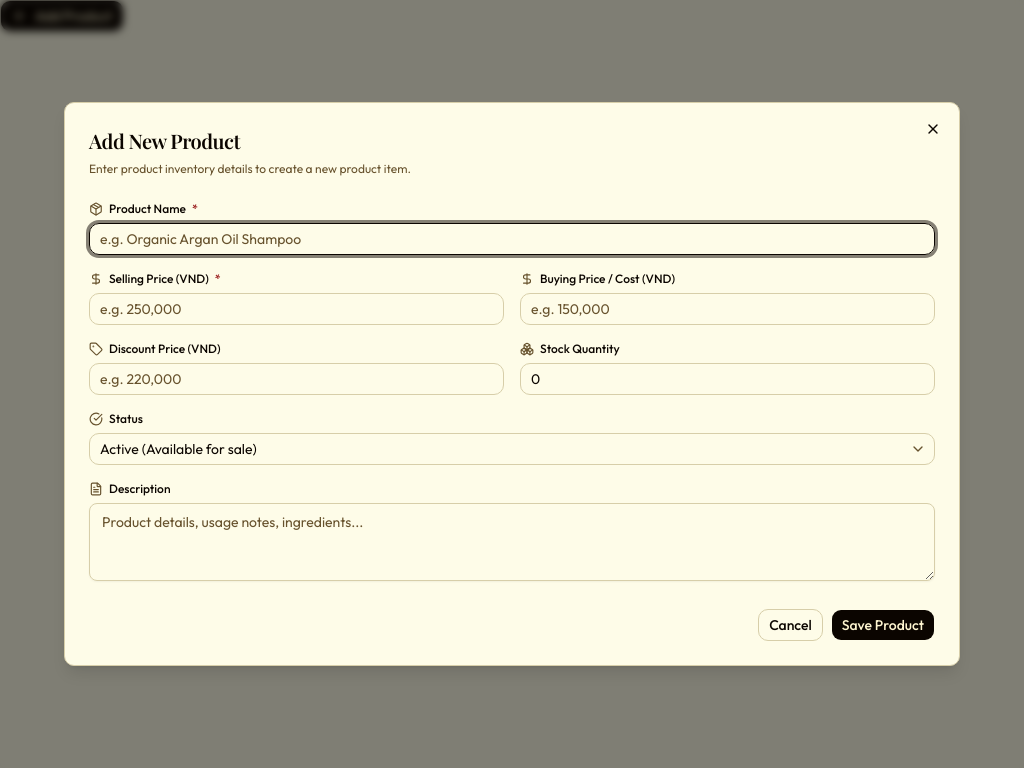
Test case: ProductFormDialog - Create Mode › validates discount price cannot exceed selling price
Step 1. Type "Hair Conditioner" into the field labelled "Product Name *" → (512, 239), box [89, 223, 935, 255]
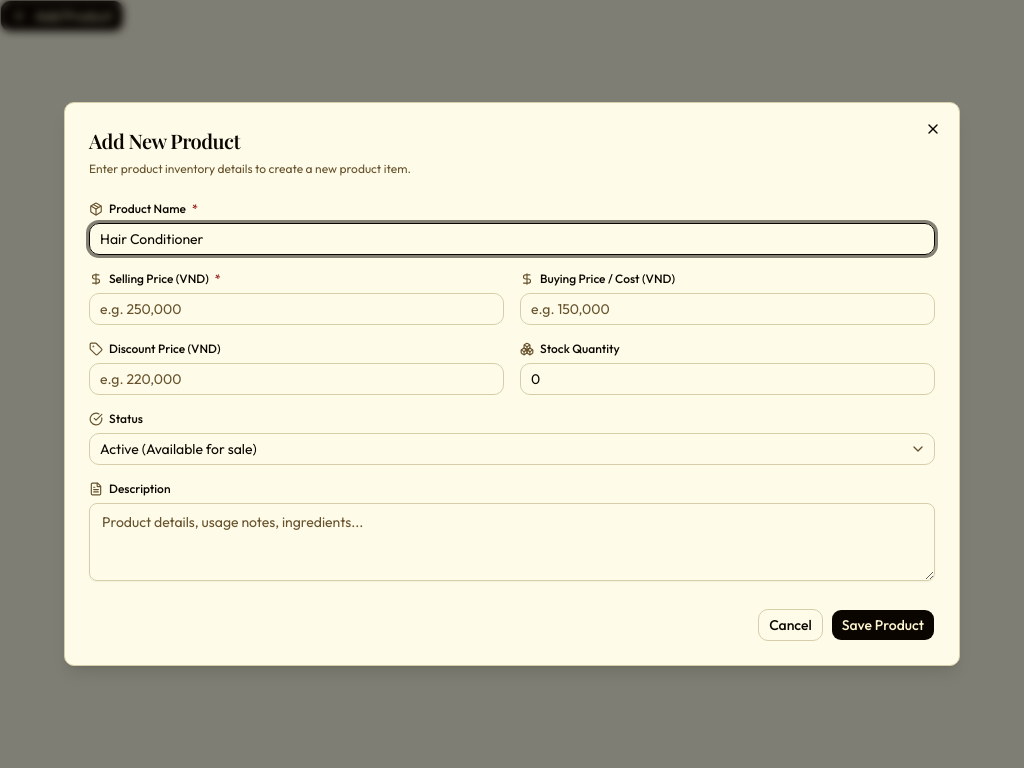
Step 2. Type "150000" into the field labelled "Selling Price (VND) *" → (296, 309), box [89, 293, 504, 325]
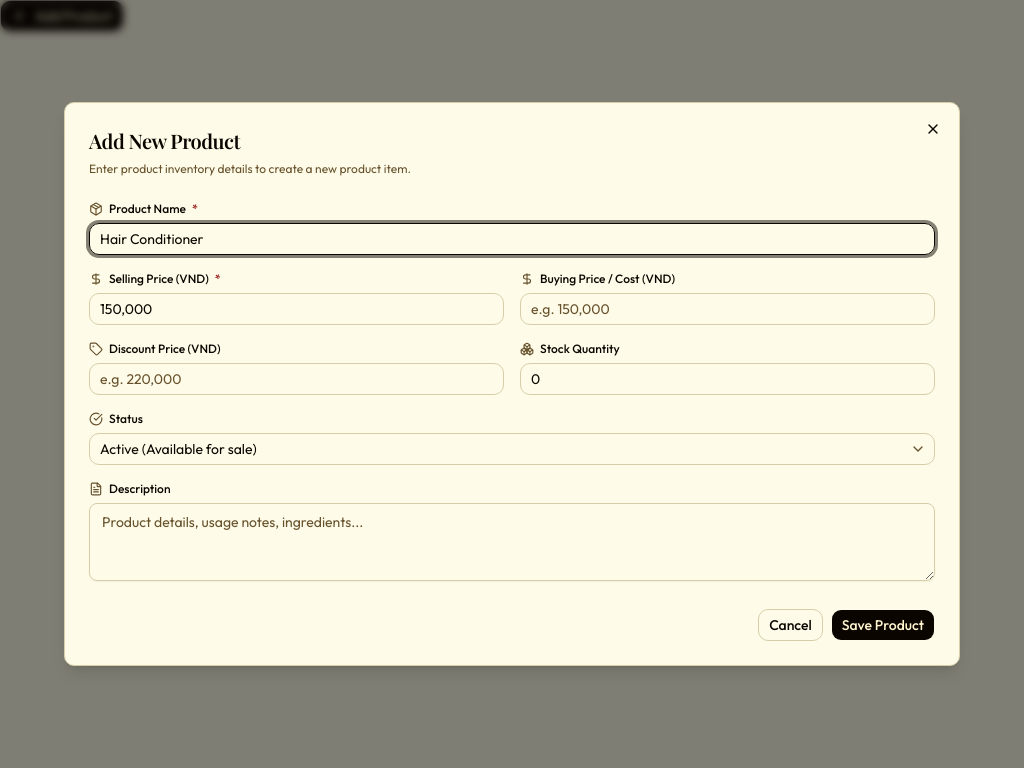
Step 3. Type "200000" into the field labelled "Discount Price (VND)" → (296, 379), box [89, 363, 504, 395]
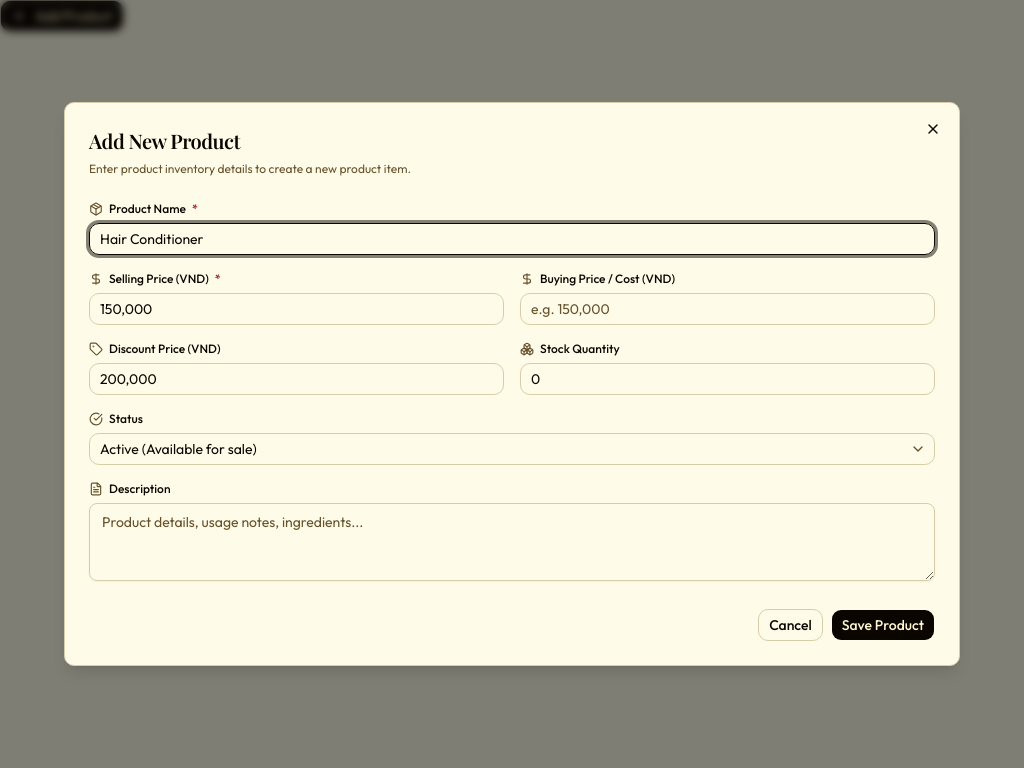
Step 4. Click the button "Save Product" → (883, 625), box [831, 609, 935, 641]
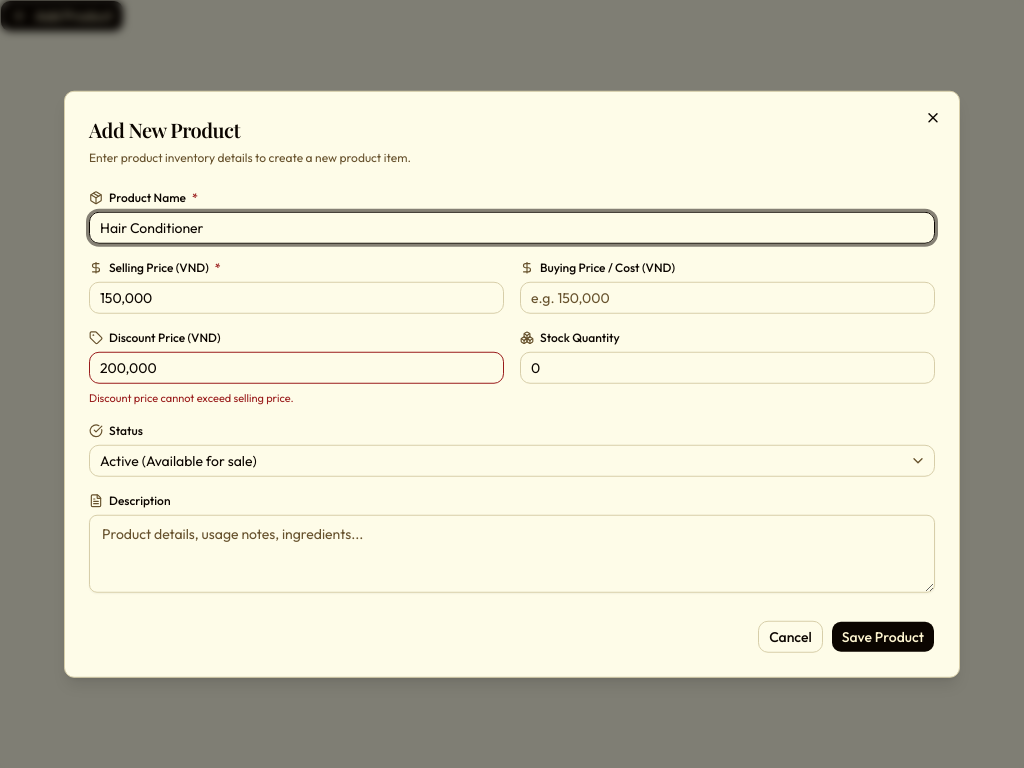
expect the text "Discount price cannot exceed selling price." is shown: met, box [89, 391, 294, 405]
